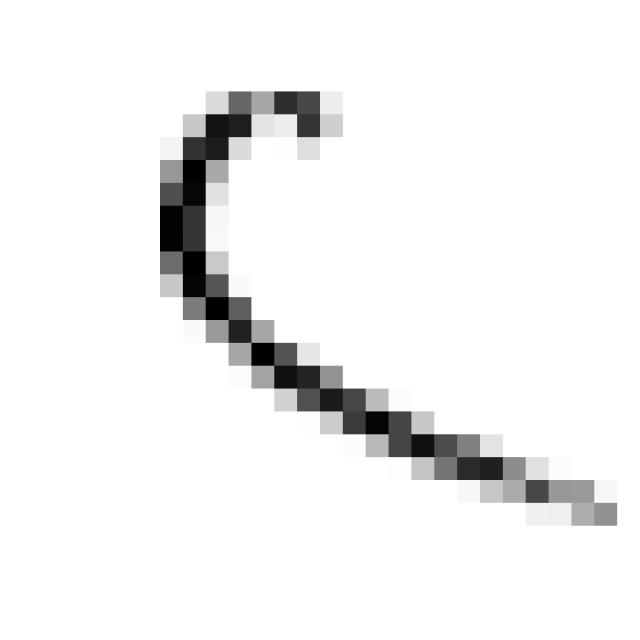2 -two-: (139, 71, 632, 553)
